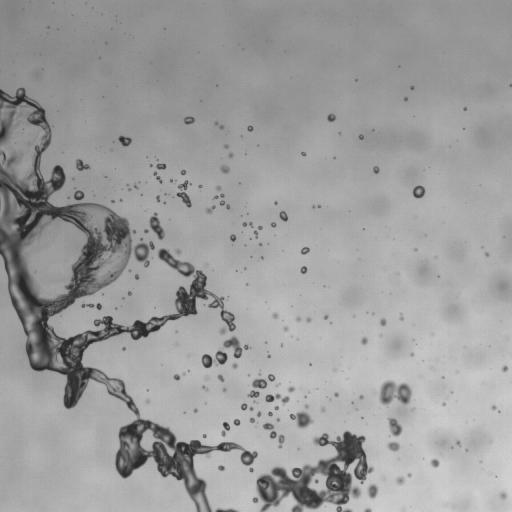droplet: (379, 380, 412, 405), (290, 410, 313, 428), (388, 417, 402, 436), (413, 185, 425, 198), (367, 484, 378, 498), (76, 159, 89, 170), (119, 136, 131, 146), (387, 442, 399, 451), (241, 403, 253, 410), (430, 458, 439, 467), (184, 116, 194, 124), (279, 211, 287, 221), (220, 165, 229, 173), (396, 476, 404, 485), (327, 113, 335, 121), (206, 206, 215, 213), (301, 247, 309, 254), (156, 163, 165, 169), (300, 266, 307, 273), (373, 166, 379, 173), (230, 234, 236, 241), (380, 318, 386, 325), (361, 337, 367, 344), (173, 374, 180, 380), (233, 419, 240, 425), (500, 492, 506, 499), (272, 312, 278, 318), (288, 386, 294, 392), (218, 374, 223, 381), (247, 126, 253, 131), (180, 170, 186, 175), (502, 366, 507, 372), (250, 417, 255, 423), (218, 465, 224, 470), (253, 230, 257, 237), (271, 222, 276, 227), (175, 249, 180, 254), (232, 363, 237, 368), (491, 405, 497, 409), (306, 317, 310, 322), (284, 326, 288, 331), (202, 386, 207, 390), (456, 440, 460, 445), (400, 314, 403, 320), (224, 144, 228, 148), (216, 186, 220, 190), (144, 229, 148, 233), (296, 317, 300, 321), (334, 392, 338, 396), (359, 395, 363, 399), (274, 406, 278, 410), (257, 412, 261, 416), (268, 412, 272, 416), (407, 473, 411, 477), (359, 134, 362, 139), (156, 196, 159, 201), (219, 125, 223, 128), (229, 153, 232, 157), (134, 184, 137, 188), (485, 252, 488, 256), (135, 275, 138, 279), (305, 404, 308, 408), (321, 407, 324, 411), (215, 122, 218, 125), (302, 152, 305, 155), (258, 226, 261, 229), (128, 292, 131, 295), (324, 315, 327, 318), (410, 353, 413, 356), (276, 383, 279, 386), (146, 399, 149, 402), (194, 409, 197, 412), (411, 86, 413, 89), (404, 98, 407, 100), (274, 202, 277, 204), (267, 355, 270, 357), (206, 376, 208, 379), (442, 403, 445, 405), (203, 435, 206, 437), (464, 108, 466, 110), (150, 164, 152, 166), (199, 185, 201, 187), (223, 389, 225, 391)
ligament: (0, 88, 255, 511), (252, 430, 373, 511), (201, 336, 250, 367), (247, 374, 275, 398), (263, 422, 284, 448), (176, 180, 191, 207), (149, 212, 164, 239), (265, 393, 289, 404), (82, 303, 101, 309), (221, 422, 229, 436), (153, 172, 162, 182), (220, 200, 229, 208), (214, 194, 223, 199), (242, 222, 252, 226), (363, 507, 372, 511), (401, 510, 404, 511)
